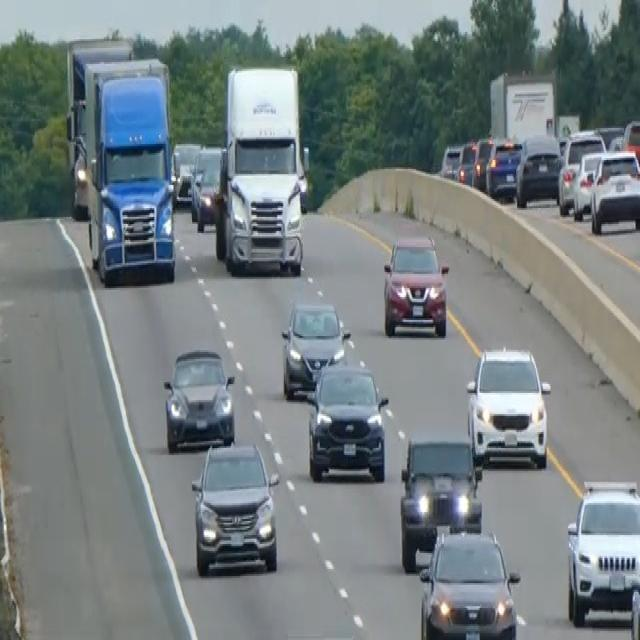car: (190, 439, 279, 576), (418, 523, 520, 638), (398, 436, 482, 570), (565, 477, 639, 628), (465, 343, 551, 469), (306, 361, 389, 482), (162, 346, 236, 452), (382, 231, 449, 338), (280, 299, 350, 398), (589, 148, 639, 235), (557, 130, 606, 215), (515, 132, 562, 206), (189, 144, 222, 231), (485, 135, 522, 199), (171, 140, 201, 207), (472, 135, 493, 189), (456, 139, 478, 185), (621, 118, 639, 174), (439, 140, 462, 182)
lorry: (83, 61, 177, 284), (213, 62, 308, 276)
